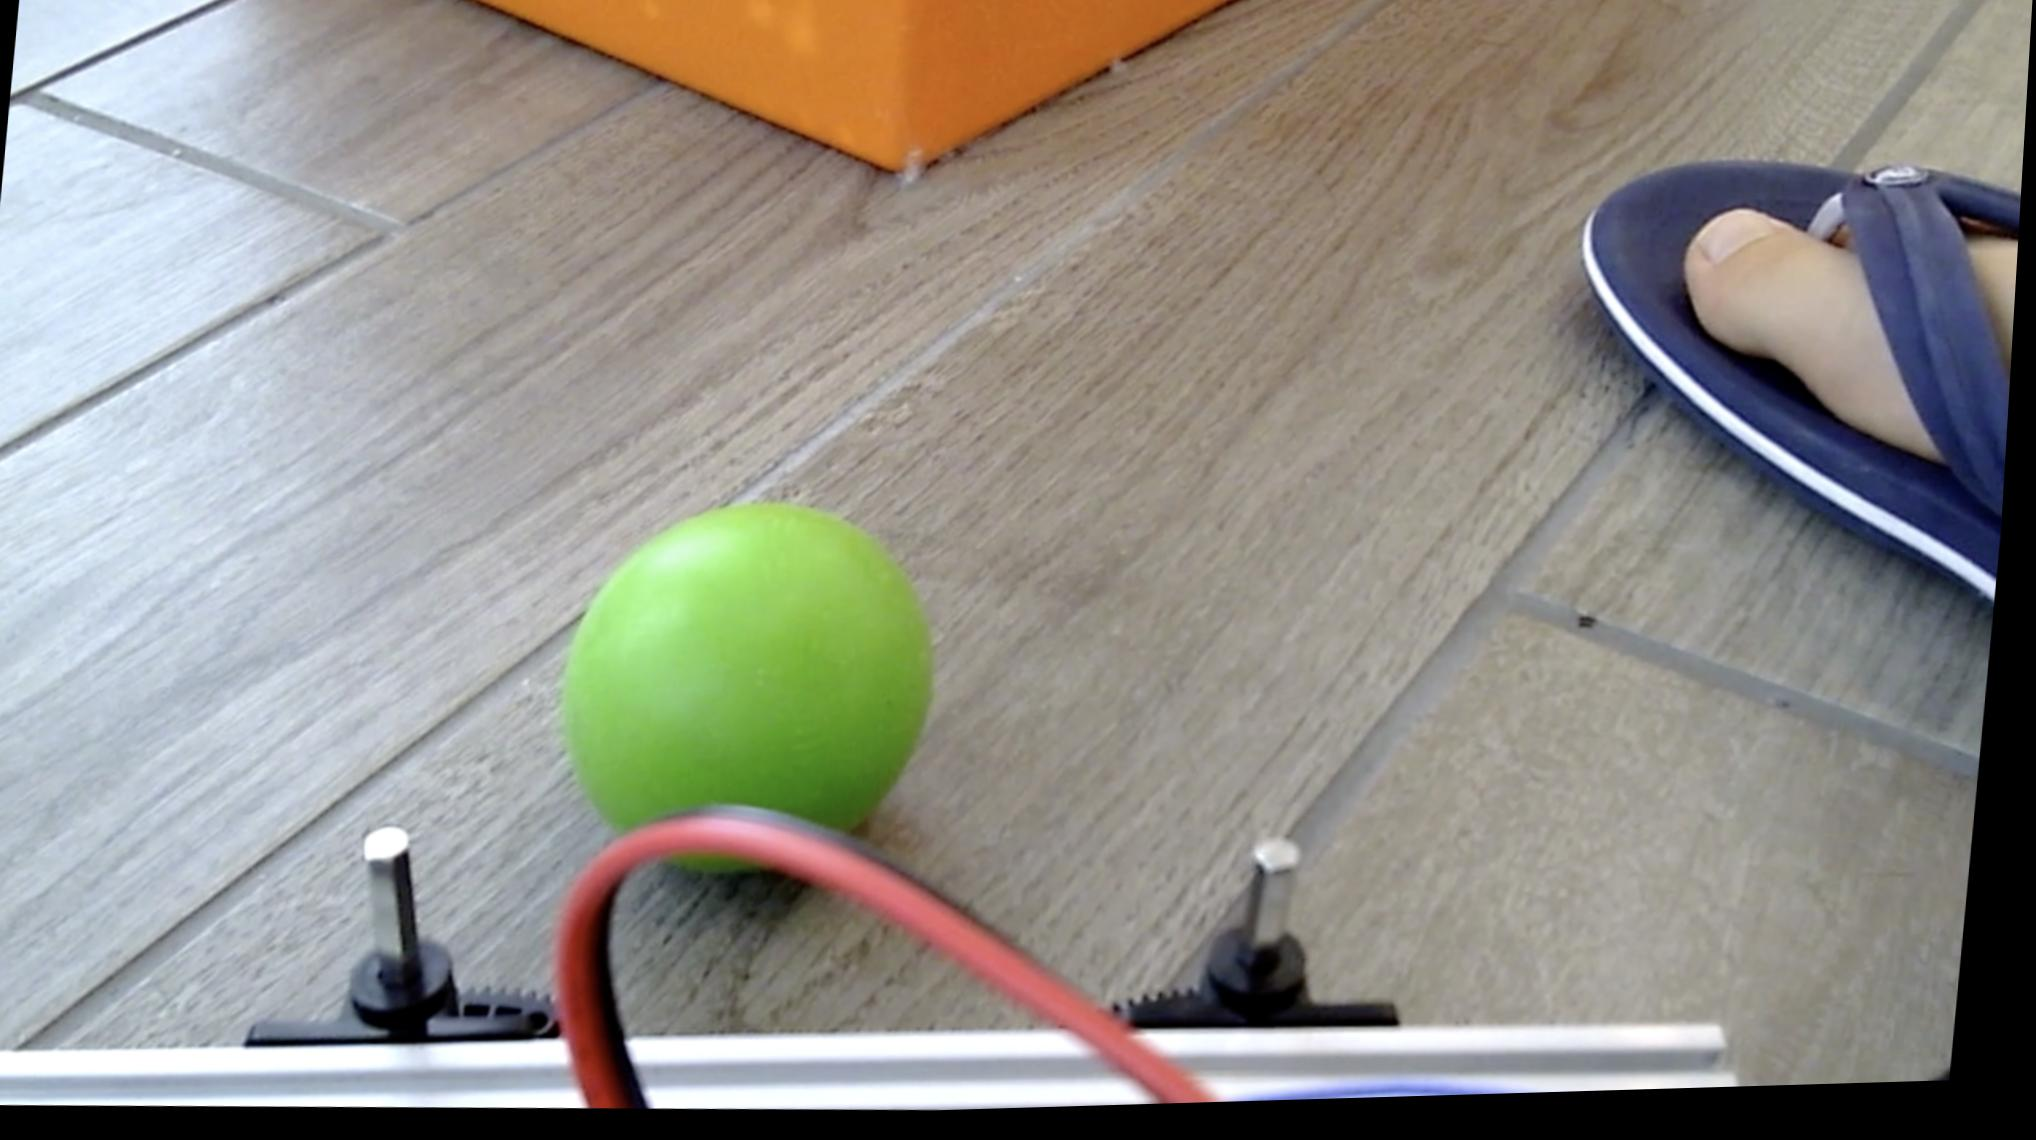greenball: (552, 491, 959, 891)
